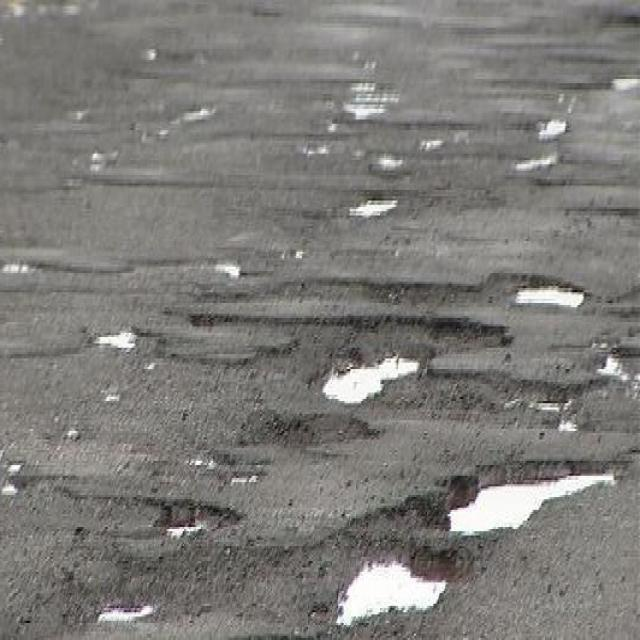pothole: (396, 450, 624, 538), (398, 465, 620, 540), (187, 313, 520, 361), (328, 539, 460, 640), (332, 540, 461, 632), (372, 271, 589, 313), (316, 352, 423, 411), (318, 346, 423, 406), (484, 267, 590, 312), (149, 493, 252, 536), (364, 273, 483, 307), (421, 318, 511, 361), (154, 496, 236, 543)
